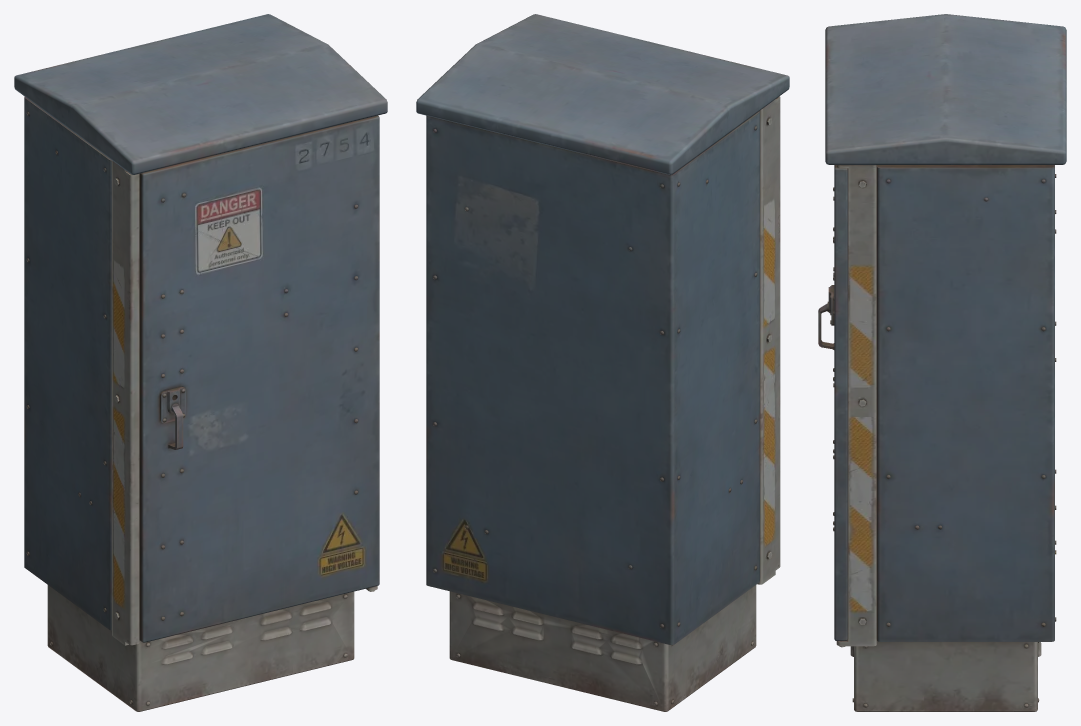
Rendered from utility_box_01.glb.
3 renders of one model, left to right at view 1: azimuth 30°, elevation 25°; view 2: azimuth 150°, elevation 25°; view 3: azimuth 270°, elevation 25°, orthographic.
Parts seen in each view (by area): view 1: utility_box_01_box; view 2: utility_box_01_box; view 3: utility_box_01_box.
Boxes of the visible parts, bbox=[...] form: utility_box_01_box: bbox=[14, 14, 387, 711]; utility_box_01_box: bbox=[416, 14, 789, 711]; utility_box_01_box: bbox=[818, 14, 1066, 711].
Bounding box in the file's own units: 0.52 × 1.12 × 0.432.
Materials: 1 (1 with a texture image).
